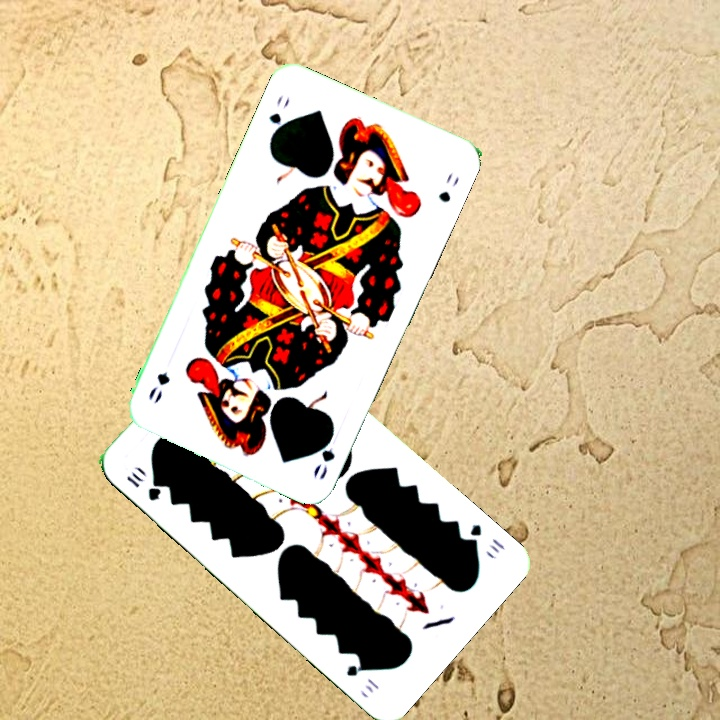G10: (463, 520, 508, 556), (122, 466, 164, 504)
GO: (309, 424, 338, 482), (264, 92, 293, 144)
